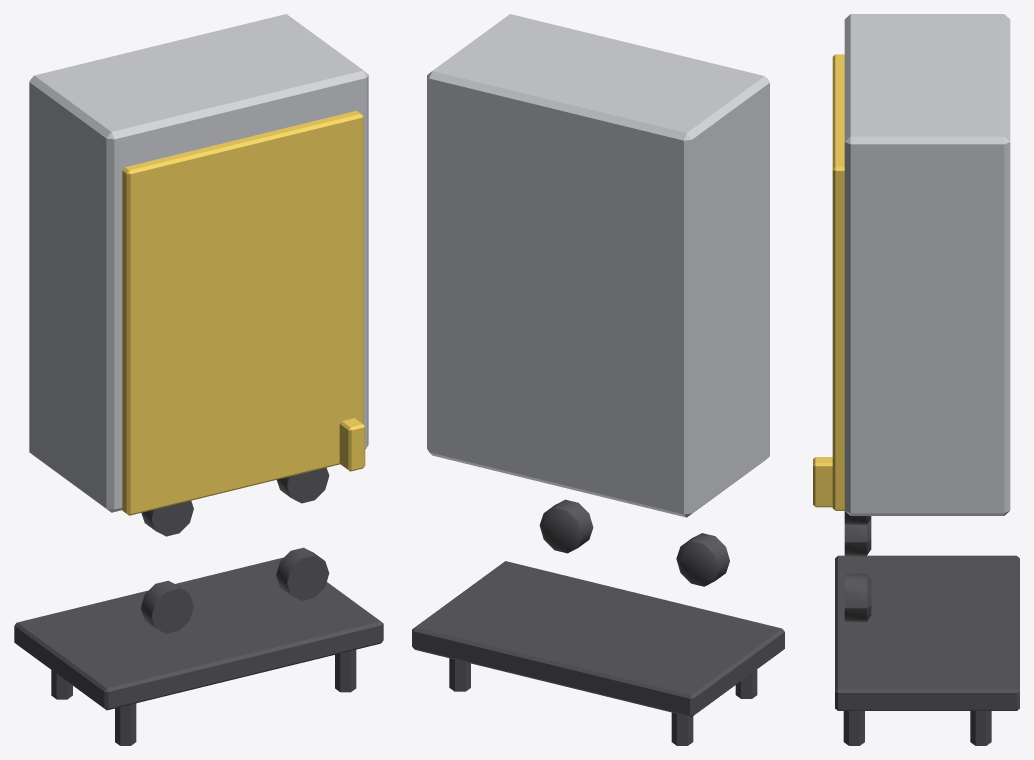
File: live-music-venue-and-festival-stage-power-distro-box-28b03233.glb
3 renders of one model, left to right at view 1: azimuth 30°, elevation 25°; view 2: azimuth 150°, elevation 25°; view 3: azimuth 270°, elevation 25°, orthographic.
Parts seen in each view (by area): view 1: power-distro-box, door; view 2: power-distro-box; view 3: power-distro-box, door.
Part boxes in pixels (x1=…): power-distro-box: x1=14, y1=14, x2=383, y2=745; door: x1=122, y1=110, x2=365, y2=515; power-distro-box: x1=412, y1=14, x2=784, y2=745; power-distro-box: x1=835, y1=14, x2=1019, y2=745; door: x1=813, y1=54, x2=844, y2=510.
Size of the model in its own units: 0.66 by 1.39 by 0.425.
